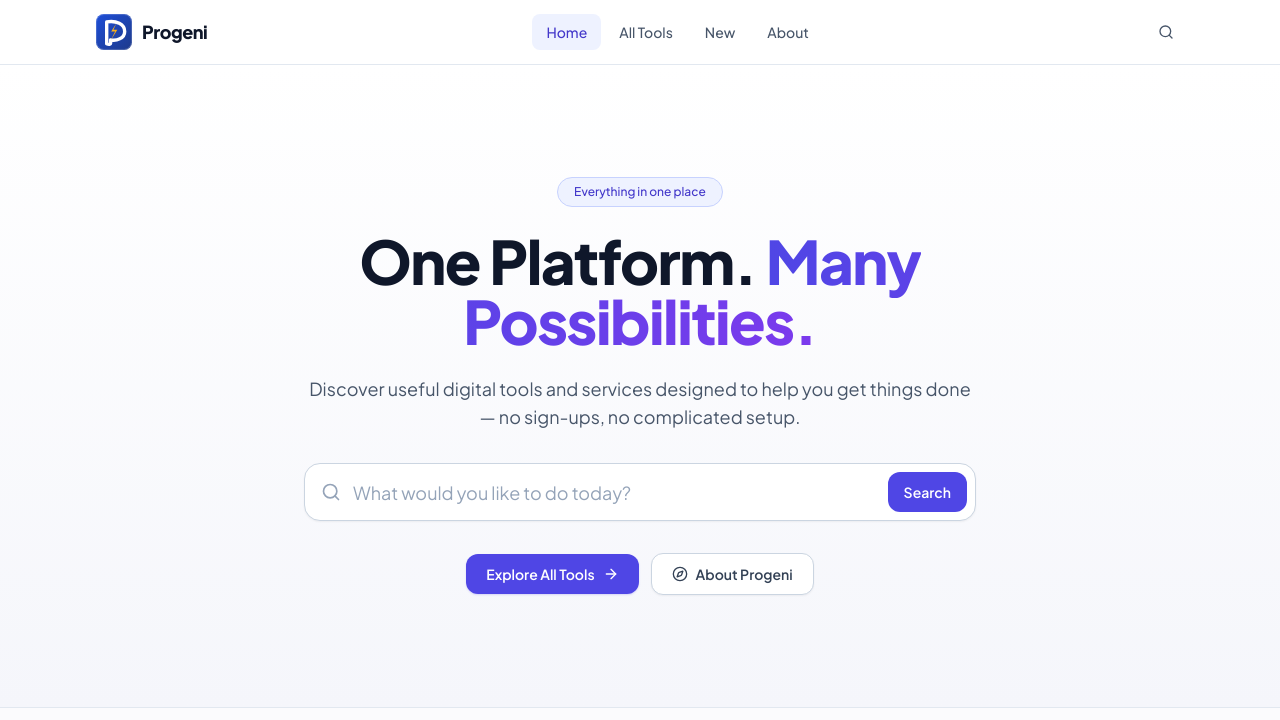
Test: Header search overlay › opens a modal search panel from the header magnifier
Click the button named "open search": click(1166, 32) [1148,14,1184,50]
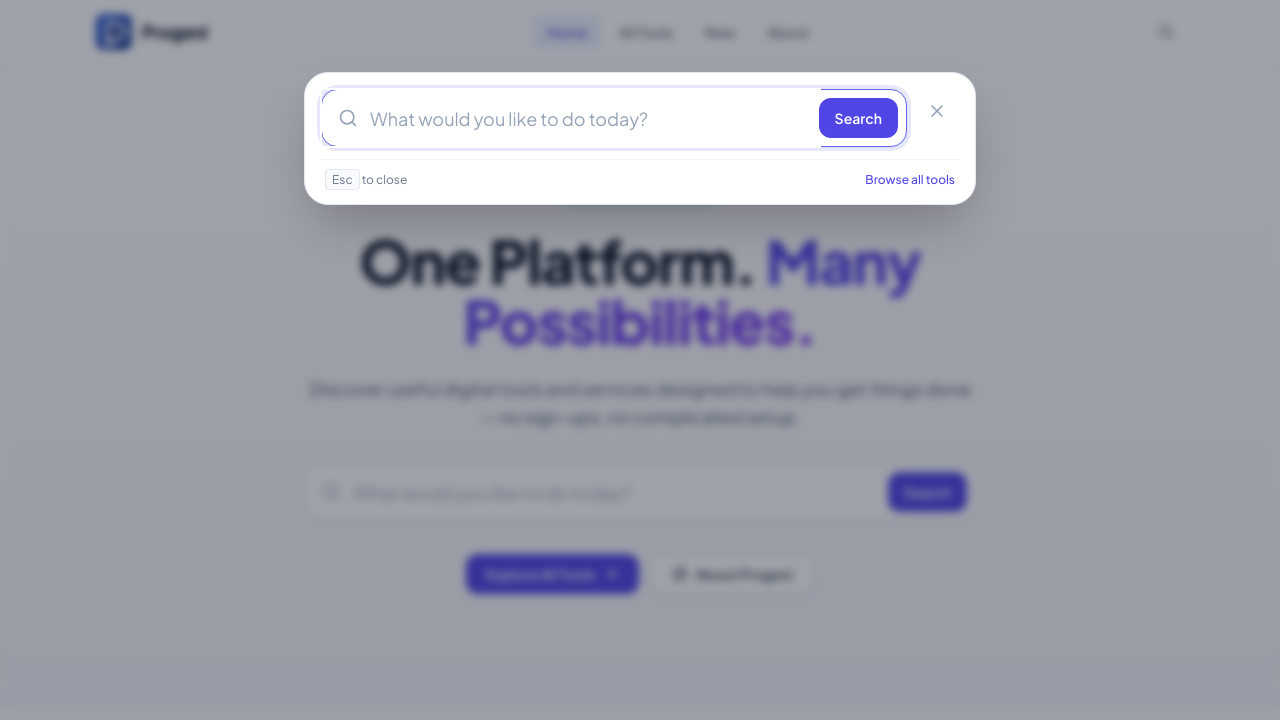
Result: the dropdown named "search tools" is shown at [322,90,819,146]
